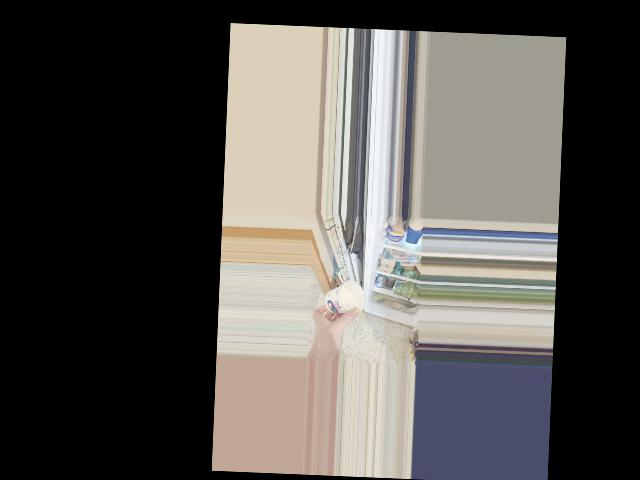cotage: (325, 275, 363, 314)
